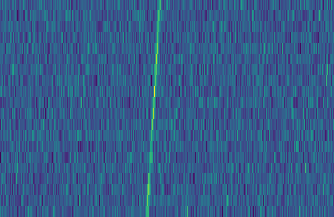signal: (142, 0, 164, 217)
